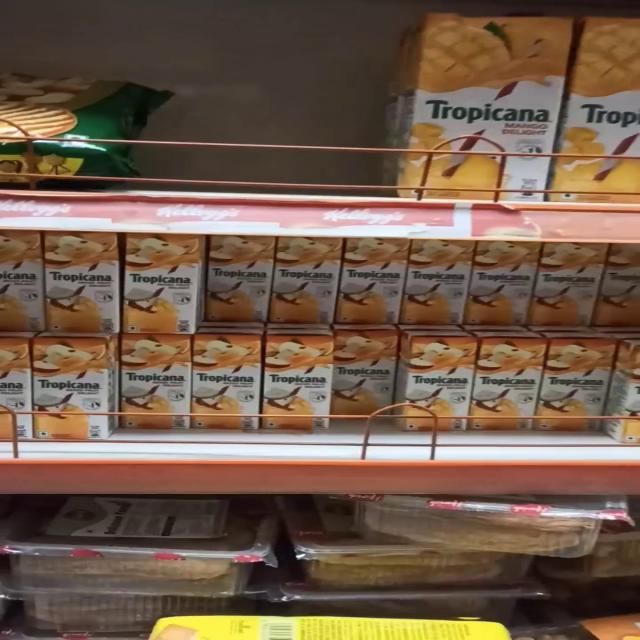Tropicana: (389, 7, 562, 209), (115, 232, 201, 336), (40, 236, 116, 341), (32, 339, 110, 438), (250, 336, 322, 438), (268, 236, 346, 326), (199, 236, 272, 324), (396, 239, 469, 326), (119, 336, 185, 431), (190, 338, 254, 435), (324, 341, 396, 427), (462, 239, 532, 326), (407, 339, 471, 427), (474, 340, 538, 428), (544, 345, 608, 429), (346, 237, 402, 323), (538, 247, 598, 321)
